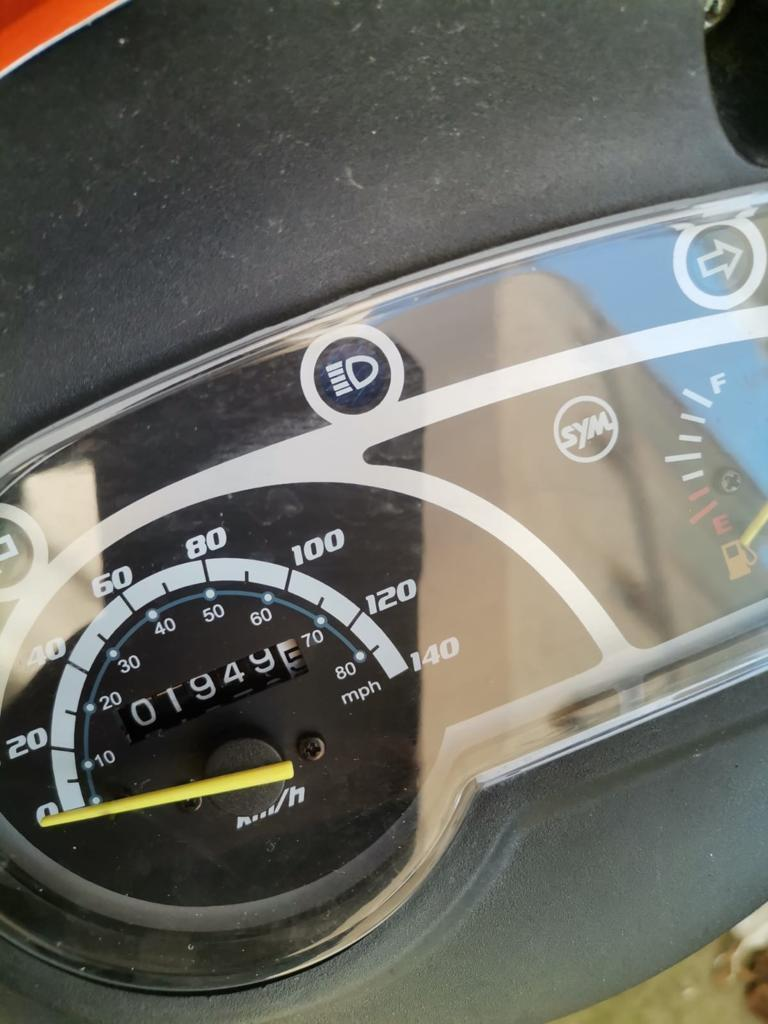0: (128, 696, 157, 726), (109, 690, 123, 705), (128, 654, 141, 669)
1: (165, 687, 182, 713)
3: (117, 658, 130, 674)
4: (222, 657, 246, 684)
5: (283, 645, 307, 671)
7: (299, 631, 312, 647)
9: (188, 671, 216, 700), (248, 645, 276, 674)
odometer: (114, 636, 311, 749)
